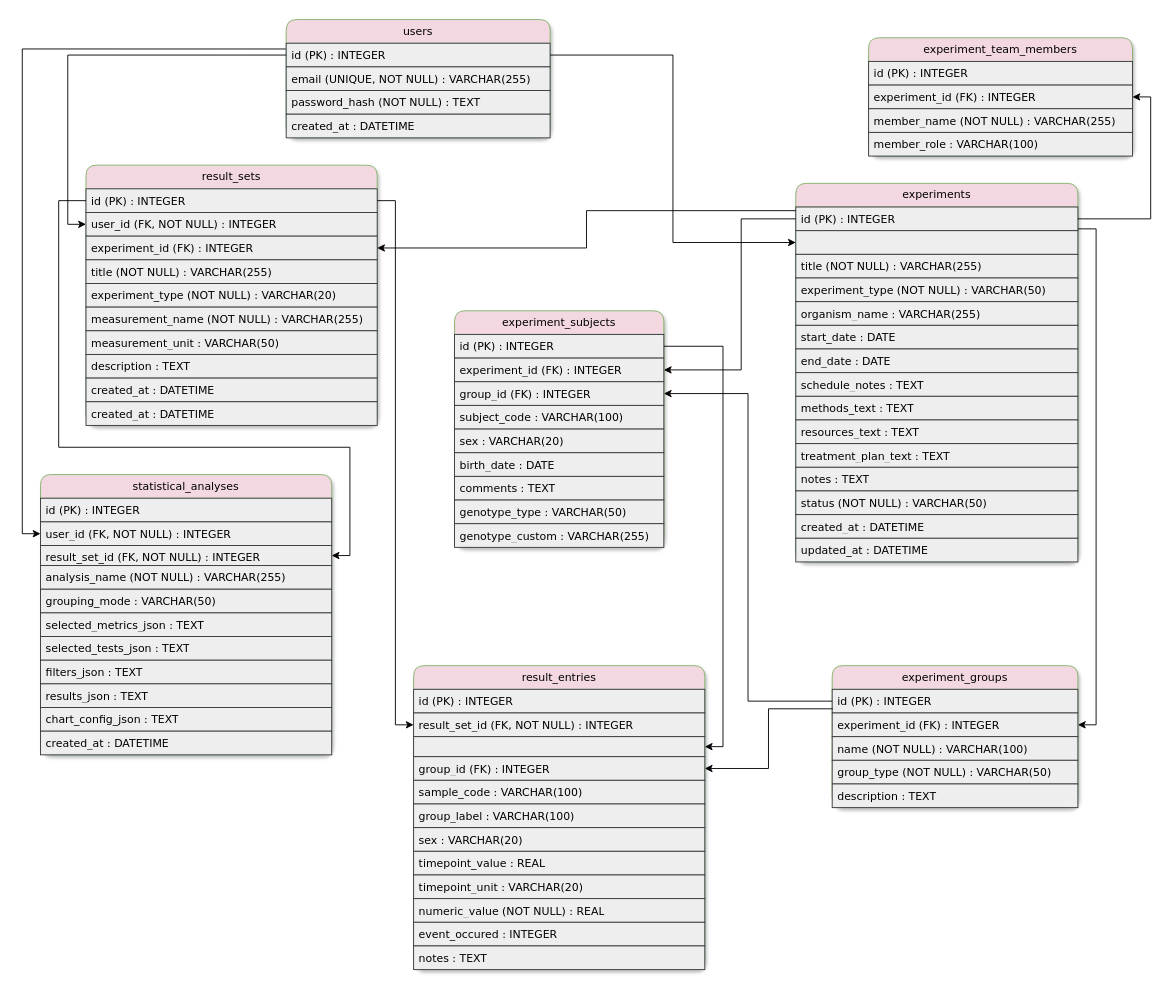
Image size: 1174x992. Some labels were removed from this diagram. Here are the shapes that lost their labels. From the top down, the centre of each, then its label:
pixel 936 242: user_id (FK) : INTEGER
pixel 559 746: subject_id (FK) : INTEGER
